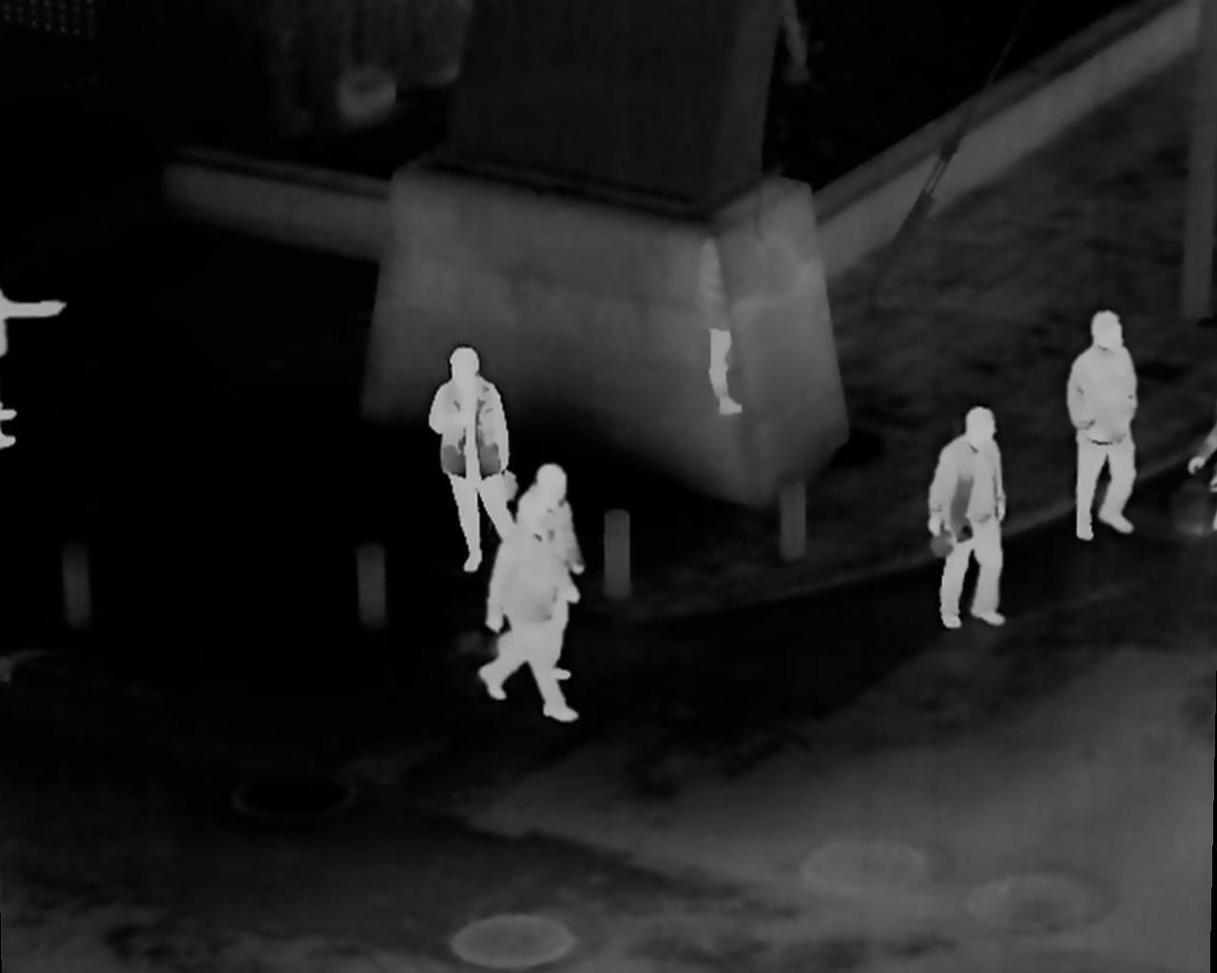person: (478, 493, 575, 722), (429, 345, 513, 575), (925, 405, 1007, 624), (1071, 305, 1138, 544), (525, 467, 580, 624)
